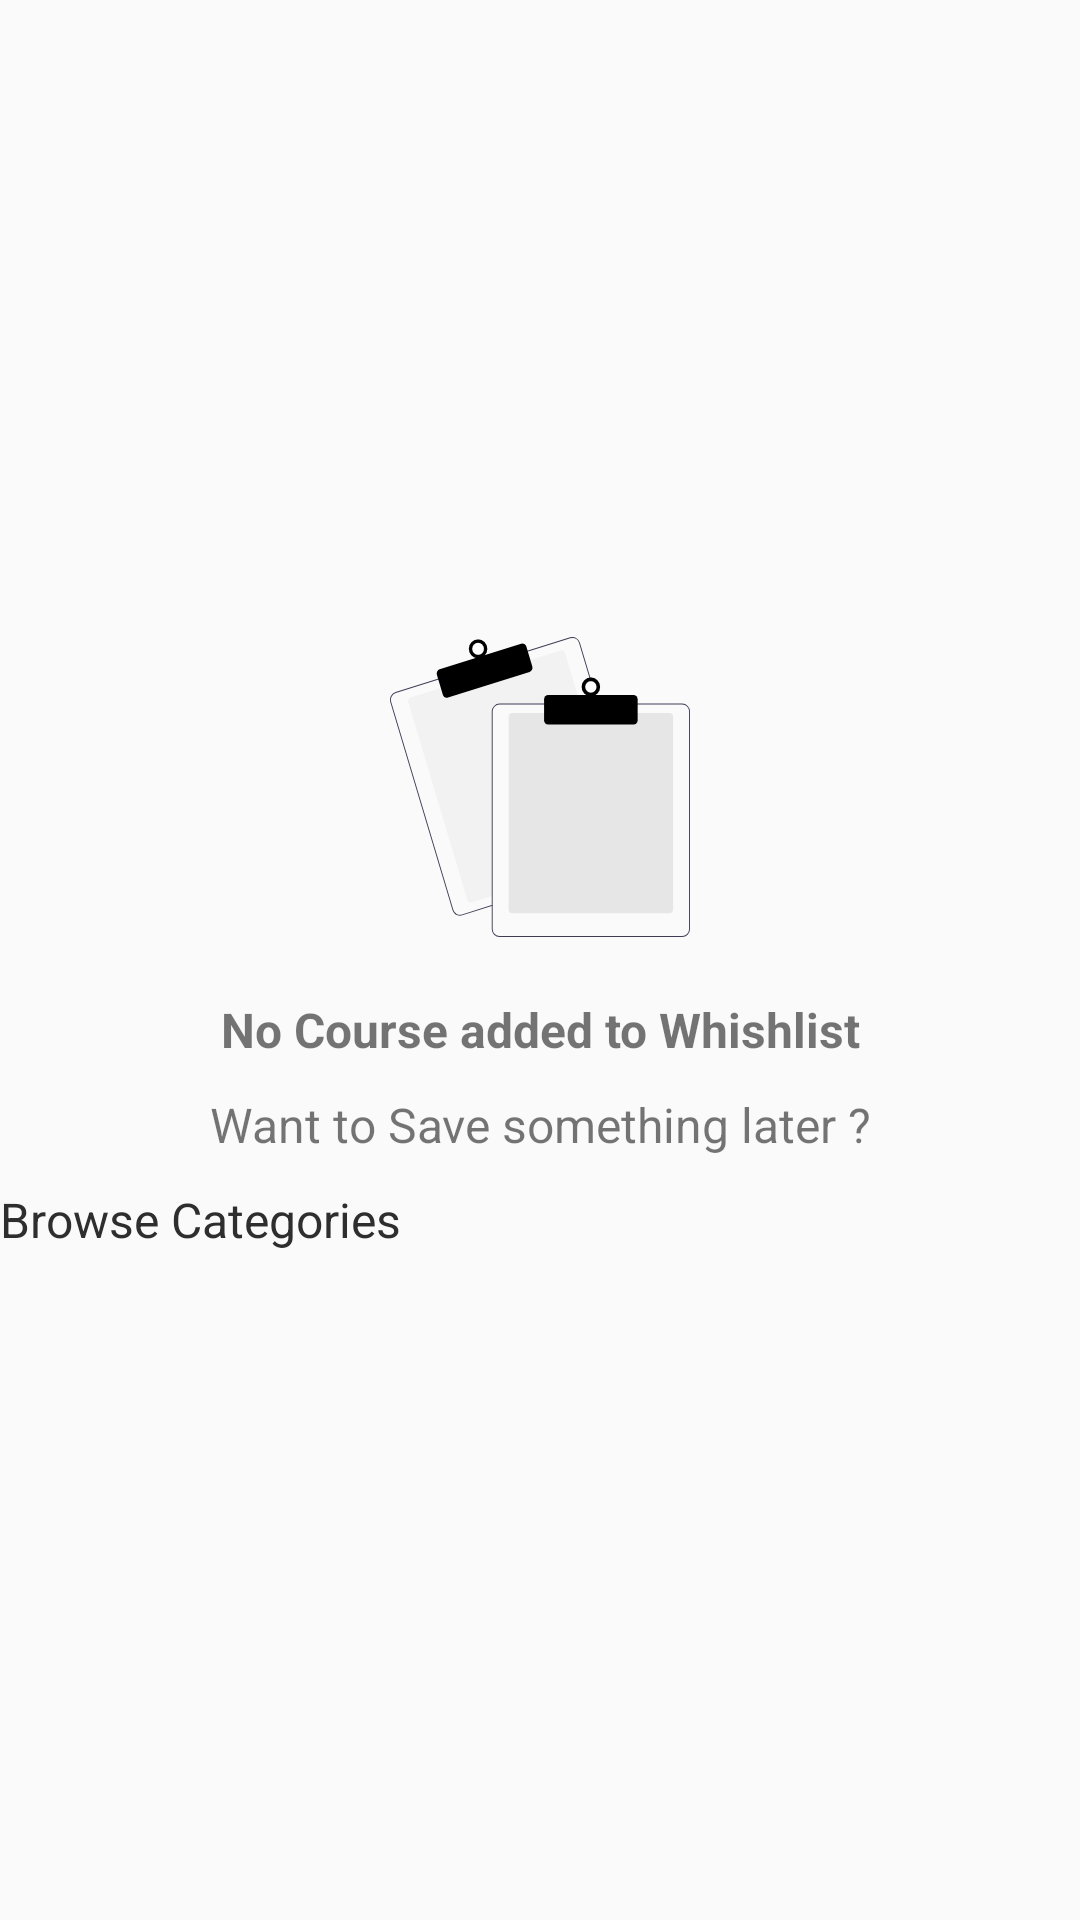

Where to tap for icons on this 1080 × 1920 app screen, as [x,y]:
no data: [540,787]
